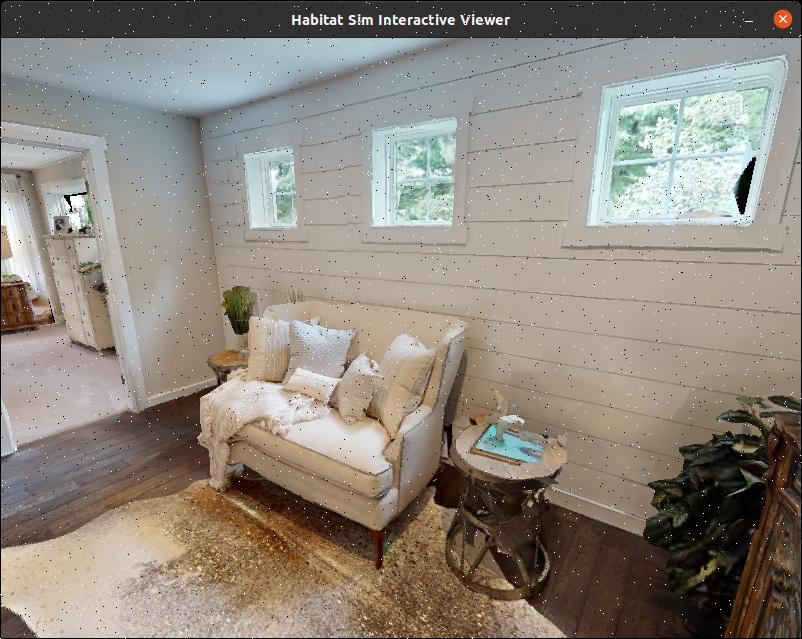door-frame: (0, 116, 156, 466)
sofa: (199, 257, 484, 575)
